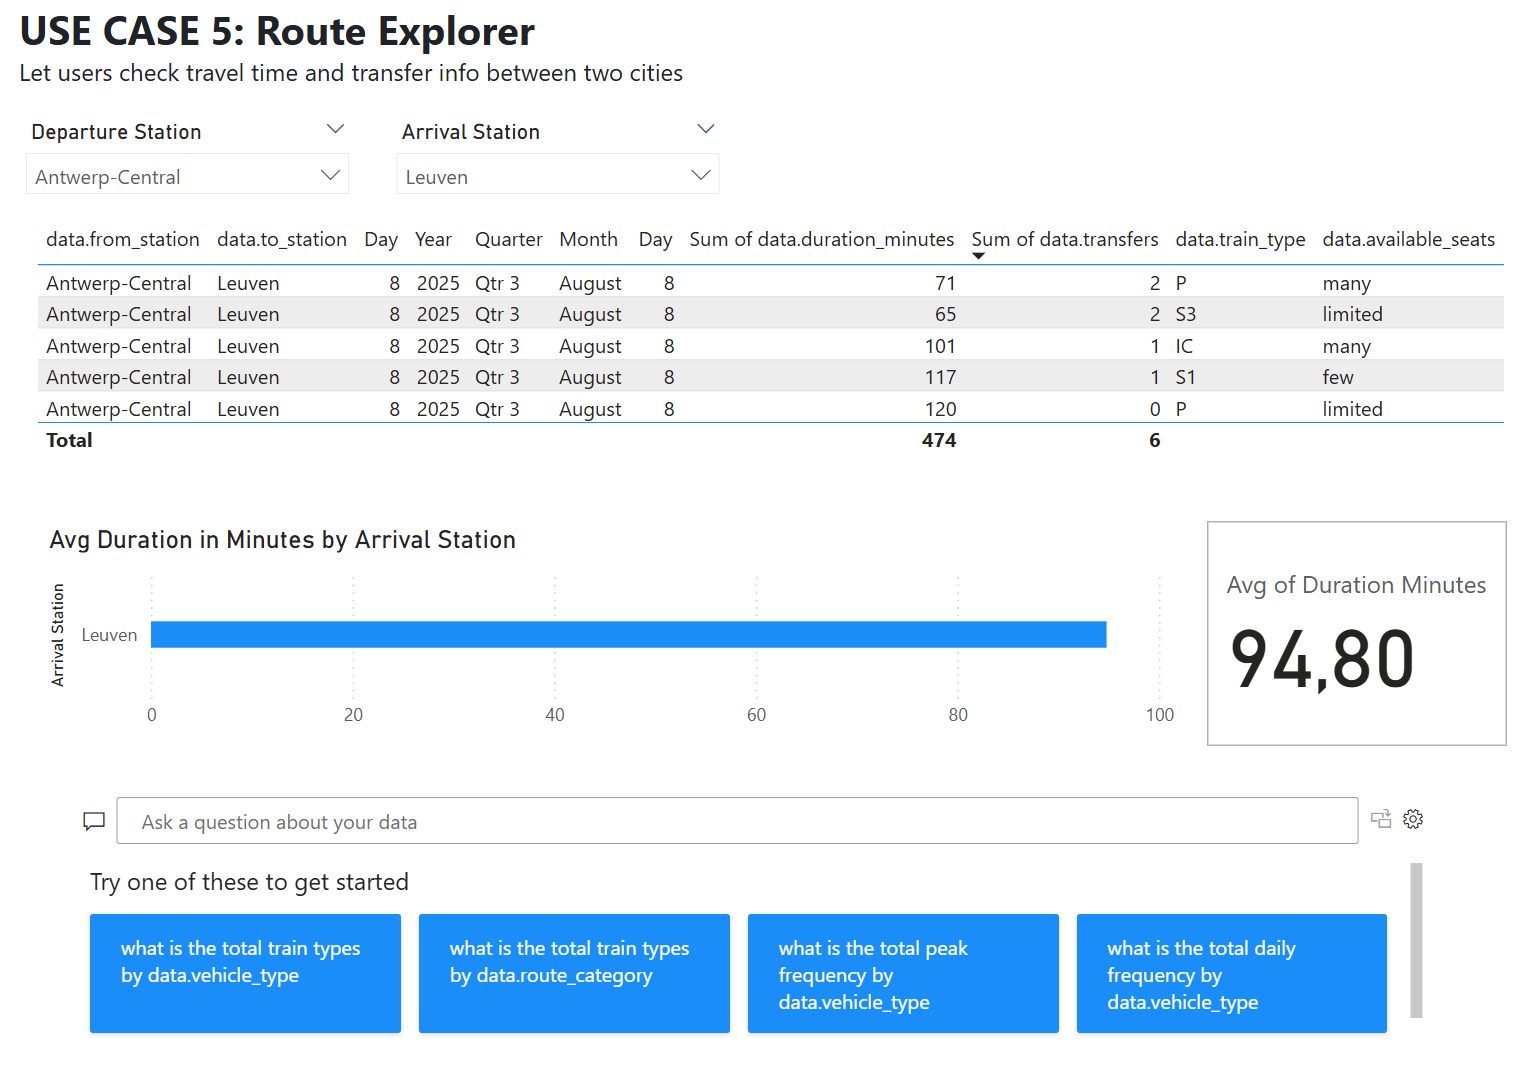

What the dashboard file says about the page in this screenshot:
{"tool":"powerbi","page":{"name":"UC5","canvas":[1280,720],"ordinal":4},"visuals":[{"type":"textbox","box":[10,0,882,67],"z":0},{"type":"slicer","fields":{"Values":["Connections.data.from_station"]},"box":[10,78,235,69],"z":1000},{"type":"slicer","fields":{"Values":["Connections.data.to_station"]},"box":[257,78,235,58],"z":2000},{"type":"qnaVisual","box":[49,510,911,210],"z":3000},{"type":"tableEx","fields":{"Values":["Connections.data.from_station","Connections.data.departure_time","Connections.data.to_station","Connections.data.arrival_time","Sum(Connections.data.duration_minutes)","Connections.data.train_type","Connections.data.available_seats"]},"box":[22,147,1210,187],"z":4000},{"type":"clusteredBarChart","fields":{"Category":["Connections.data.to_station"],"Y":["Connections.Avg_Duration_Minutes"]},"box":[30,353,760,145],"z":5000},{"type":"cardVisual","fields":{"Data":["Connections.Avg_Duration_Minutes"]},"box":[802,346,210,160],"z":6000}]}

Visuals, with their boxes on the page's 1280x720 design canvas (x1, y1, x2, y2). These are canvas units, not pixel positions in the 1523x1068 screenshot, which may show the page scaled, cropped or inside an application window:
textbox: pyautogui.locateOnScreen(10, 0, 892, 67)
slicer - Connections.data.from_station: pyautogui.locateOnScreen(10, 78, 245, 147)
slicer - Connections.data.to_station: pyautogui.locateOnScreen(257, 78, 492, 136)
qnaVisual: pyautogui.locateOnScreen(49, 510, 960, 720)
tableEx - Connections.data.from_station x Connections.data.departure_time: pyautogui.locateOnScreen(22, 147, 1232, 334)
clusteredBarChart - Connections.data.to_station x Connections.Avg_Duration_Minutes: pyautogui.locateOnScreen(30, 353, 790, 498)
cardVisual - Connections.Avg_Duration_Minutes: pyautogui.locateOnScreen(802, 346, 1012, 506)
